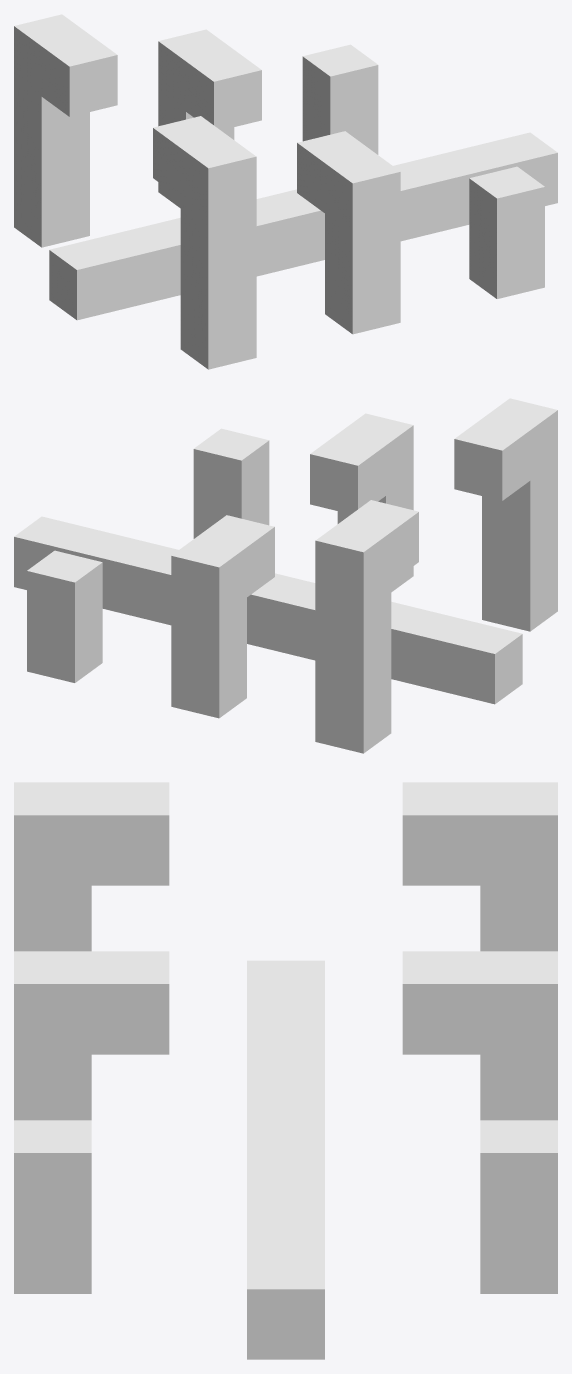
The model's file is chapter1_Bone_big.fbx.
3 views of the same model, one above another, from view 1: azimuth 30°, elevation 25°; view 2: azimuth 150°, elevation 25°; view 3: azimuth 270°, elevation 25° (orthographic). The views are drawn at different scales.
Visible parts, largest first — view 1: Matrix; view 2: Matrix; view 3: Matrix.
Boxes of the visible parts, bbox=[...] form: Matrix: bbox=[14, 14, 557, 369]; Matrix: bbox=[14, 398, 557, 753]; Matrix: bbox=[14, 782, 557, 1359].
Bounding box in the file's own units: 20 × 8 × 14.
